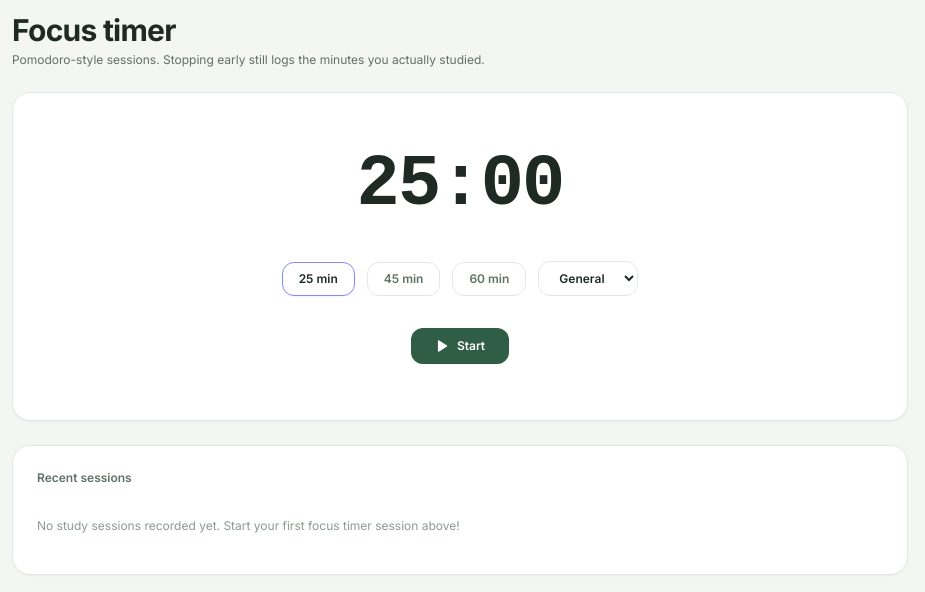
FocusTimer Component › changes target digits when preset button is clicked
Click the button "45 min" at (404, 278), box [367,262,440,296]
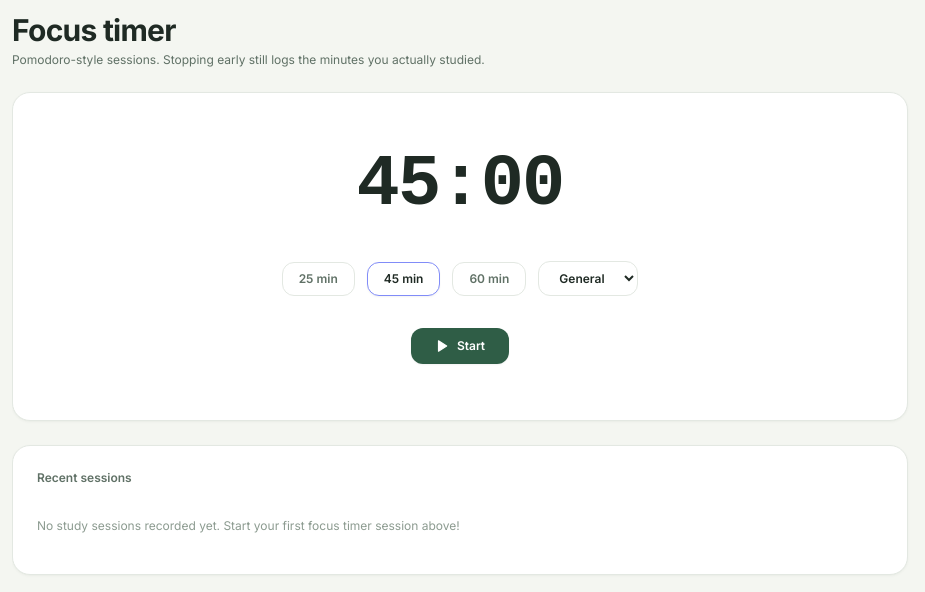
Now the text "45:00" is shown, box [356,149,564,221]
Click the button "60 min" at (489, 278), box [452,262,526,296]
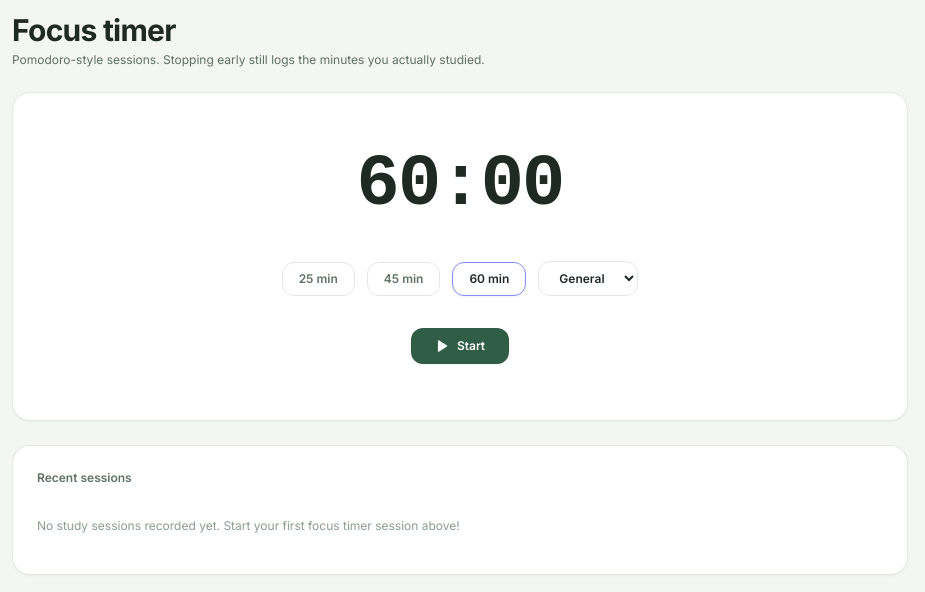
Now the text "60:00" is shown, box [356,149,564,221]
